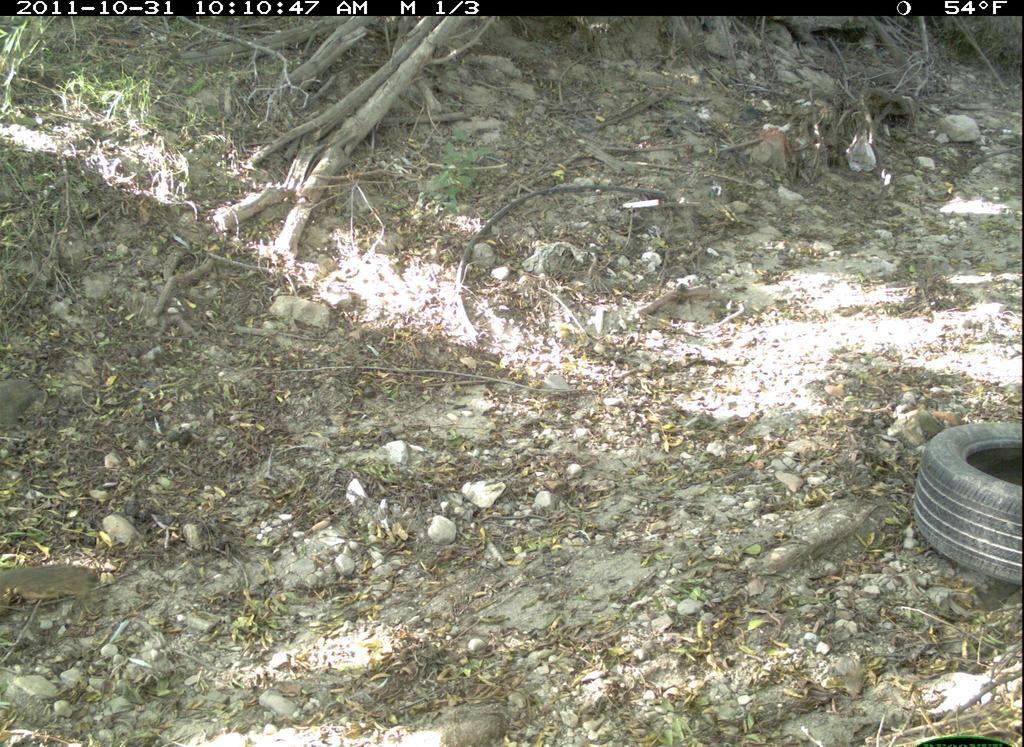squirrel: (1, 552, 100, 607)
